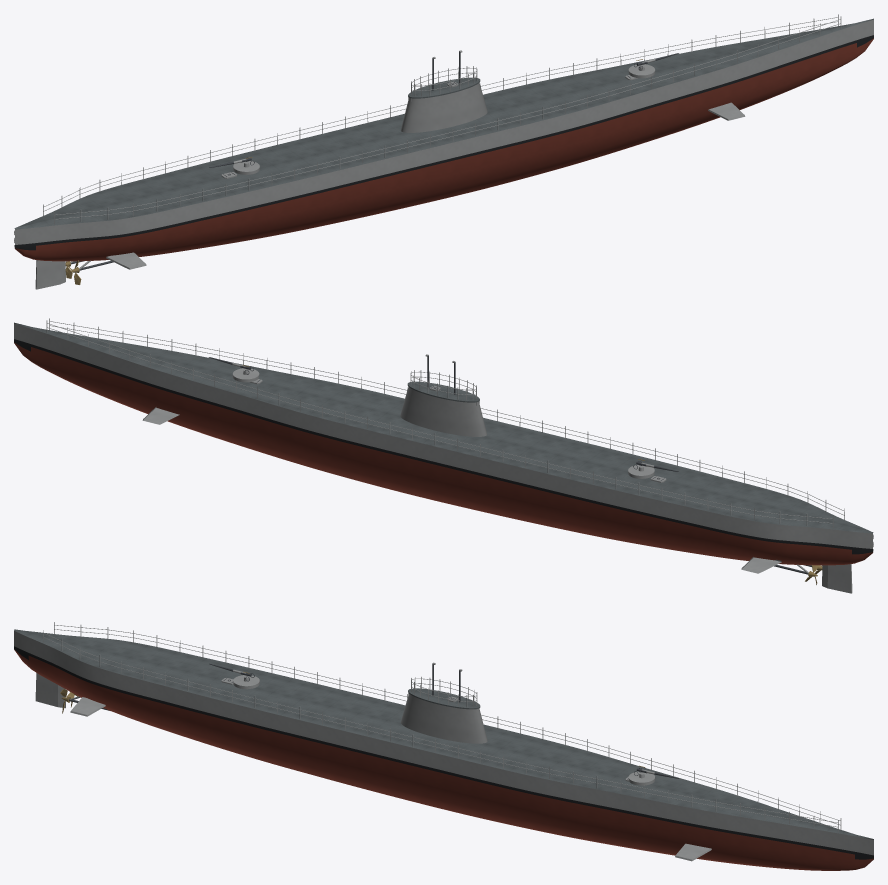
The model's file is lagrange.glb.
The picture shows the model from 3 angles, top to bottom: view 1: azimuth 30°, elevation 25°; view 2: azimuth 150°, elevation 25°; view 3: azimuth 330°, elevation 25°; orthographic projection.
Visible parts, largest first — view 1: Lagrange class; view 2: Lagrange class; view 3: Lagrange class.
Boxes of the visible parts, x1,y1,x2,y2 form: Lagrange class: (14,14,873,289); Lagrange class: (14,318,873,593); Lagrange class: (14,622,873,870).
Size of the model in its own units: 75.2 by 11.64 by 8.99.
6 materials, 6 textured.
